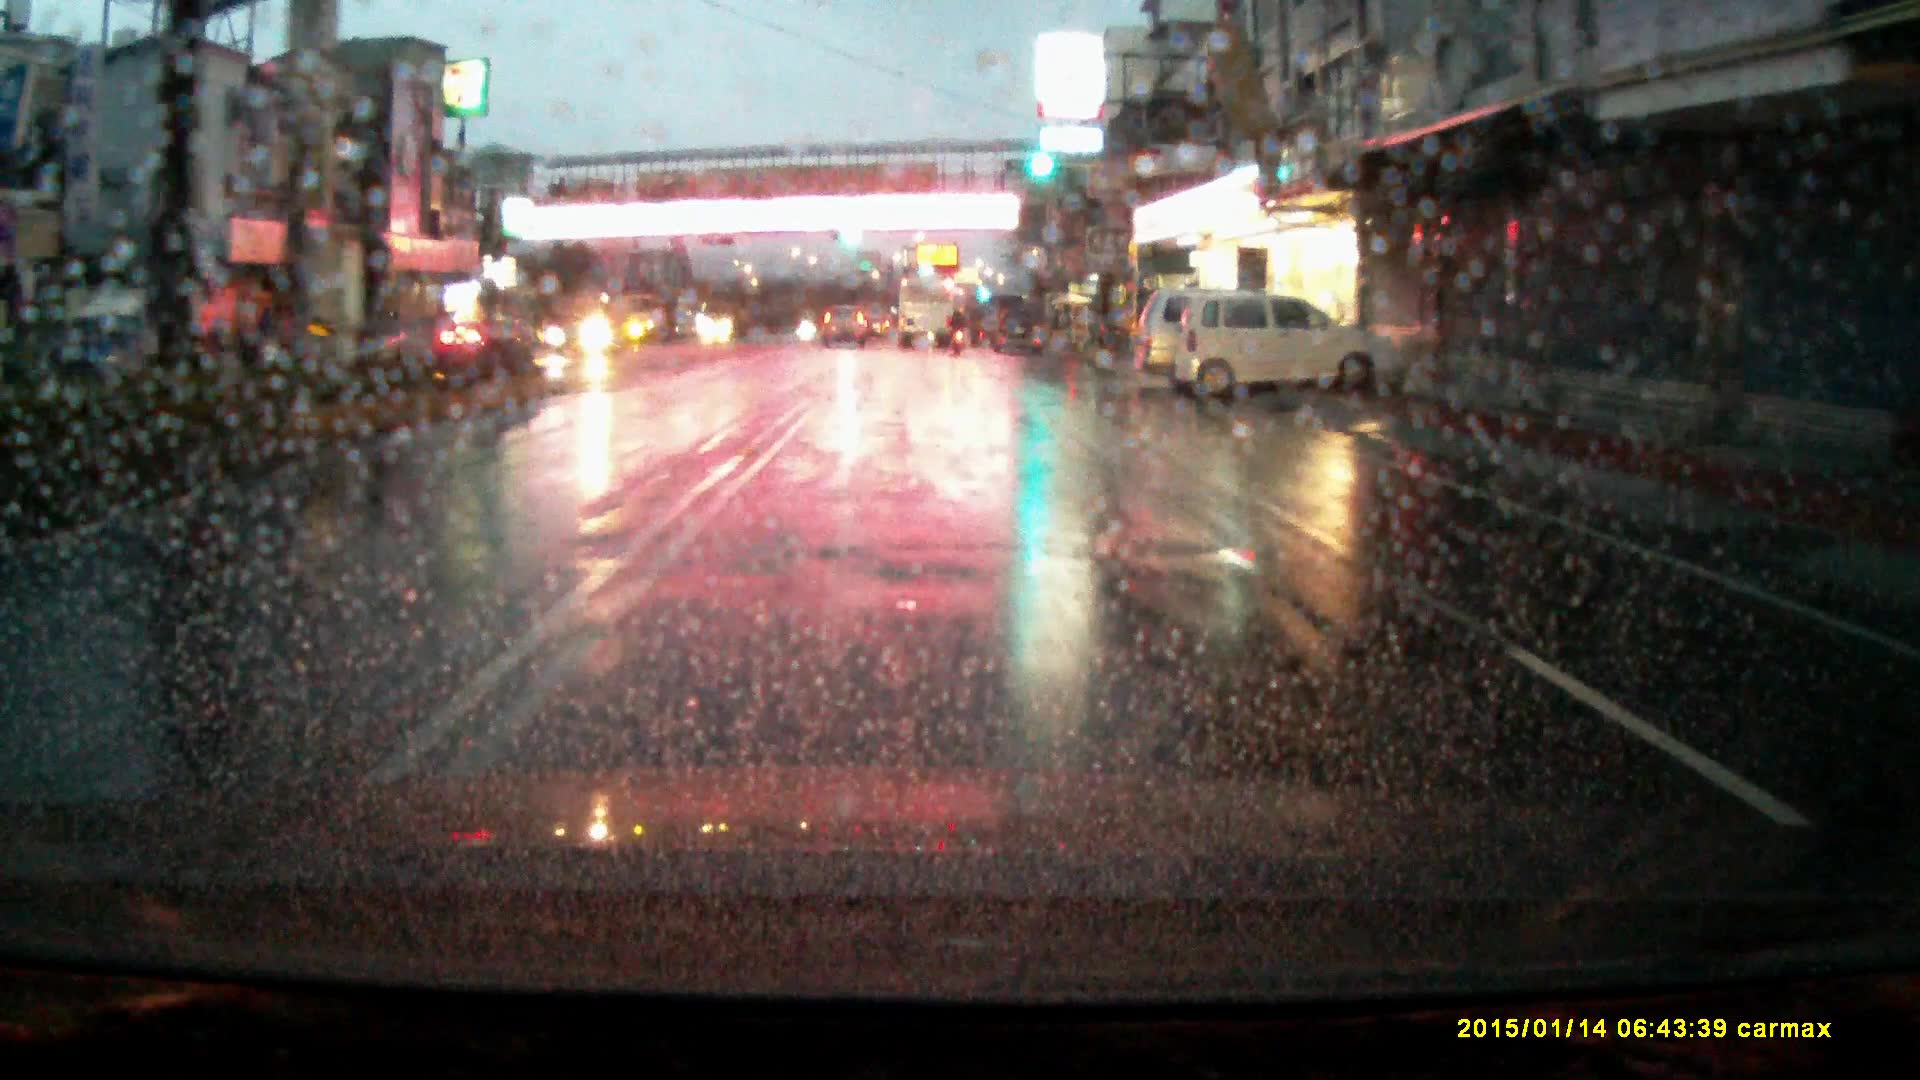rider: (949, 307, 969, 358)
vehicle: (1176, 293, 1403, 411), (57, 284, 212, 378), (1133, 290, 1274, 390), (544, 293, 635, 357), (899, 280, 956, 350), (989, 302, 1047, 356), (697, 301, 751, 341), (822, 303, 868, 348)
